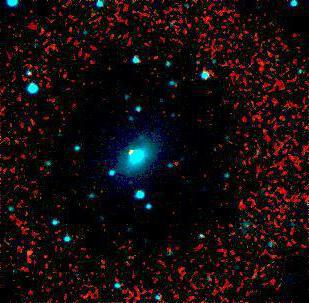star: (123, 137, 153, 167)
